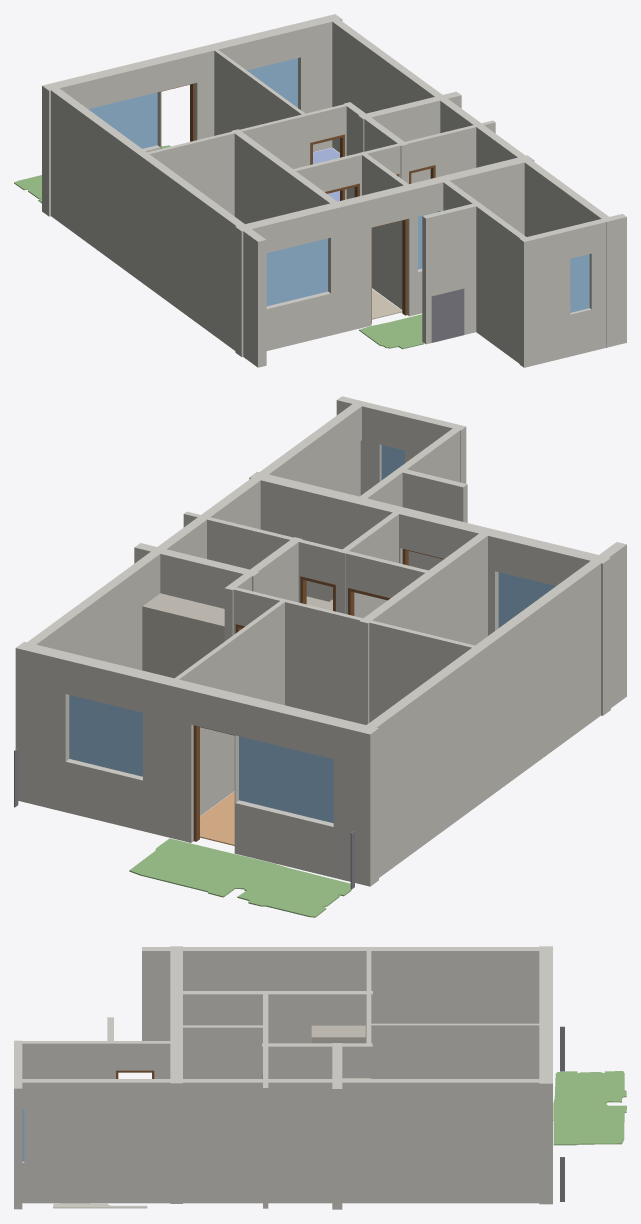
The picture shows the model from 3 angles, top to bottom: view 1: azimuth 30°, elevation 25°; view 2: azimuth 150°, elevation 25°; view 3: azimuth 270°, elevation 25°; orthographic projection. The views are drawn at different scales.
Visible parts, largest first — view 1: walls, window_4, window_2, railings, floor_9_Outdoor, window_0, window_11, door_3, floor_5_Entry; view 2: walls, floor_8_Outdoor, window_2, furniture_0_closet, window_0, window_4, floor_0_Living_Room, door_1; view 3: walls, floor_8_Outdoor, furniture_1_closet, floor_10_Undefined, railings.
Boxes of the visible parts, x1,y1,x2,y2 form: walls: (42,14,626,367); window_4: (266,238,327,306); window_2: (88,92,157,148); railings: (431,288,464,342); floor_9_Outdoor: (359,314,423,349); window_0: (247,58,297,107); window_11: (570,254,589,312); door_3: (371,219,407,323); floor_5_Entry: (372,289,402,319); walls: (15,396,626,886); floor_8_Outdoor: (129,838,351,917); window_2: (239,736,333,823); furniture_0_closet: (142,593,224,678); window_0: (69,695,142,776); window_4: (498,572,555,627); floor_0_Living_Room: (200,791,234,845); door_1: (193,725,234,841); walls: (14,946,552,1209); floor_8_Outdoor: (553,1071,626,1145); furniture_1_closet: (311,1025,365,1043); floor_10_Undefined: (53,1203,147,1208); railings: (560,1026,564,1201).
Size of the model in its own units: 6.84 by 2.72 by 12.42.
